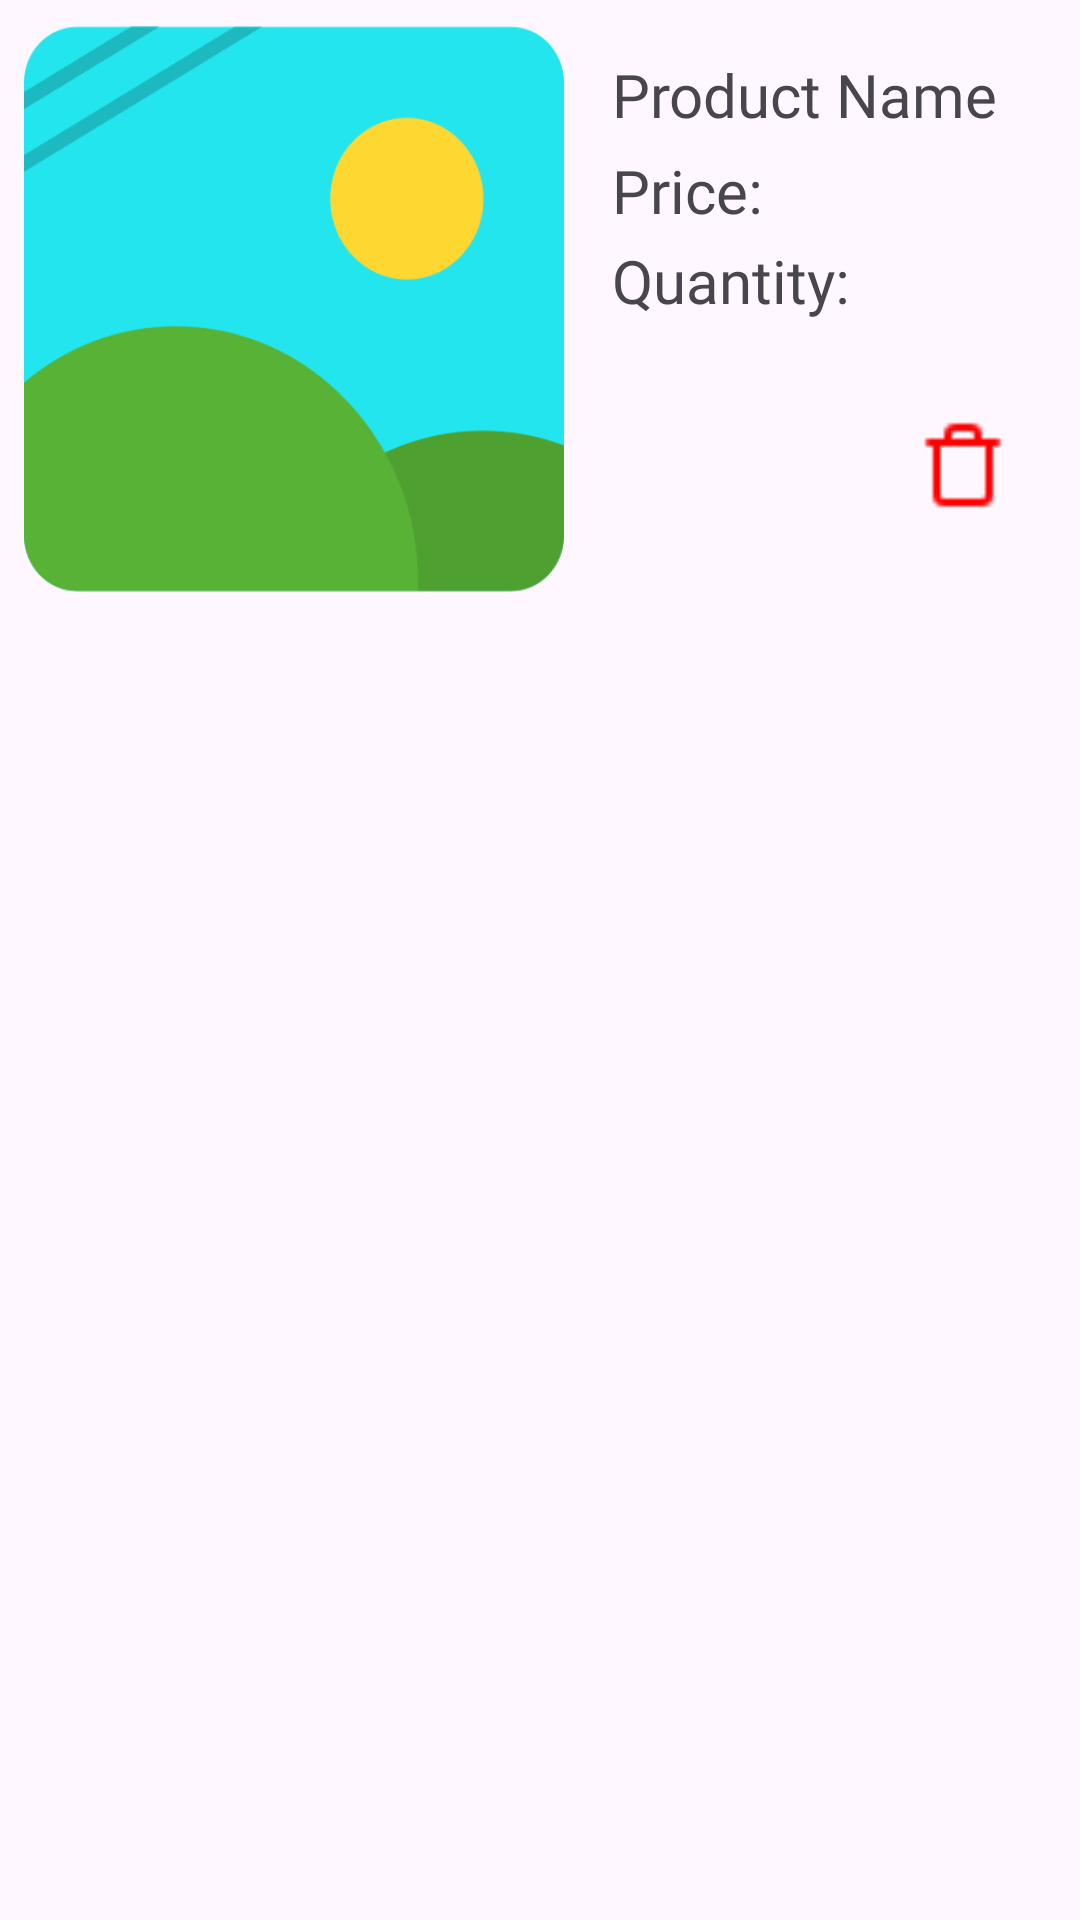

Icons on this 1080*1920 Android screen, each with the point to tap as point (x, y):
delete: point (963, 465)
